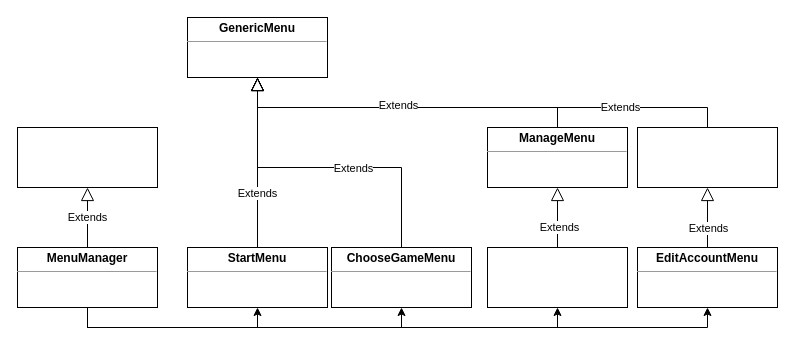
This 795x353 diagram has some shape labels left out. The box of each missing label's shape, as (x1, y1, x2, y2) in pixels:
EditMenu: (636, 126, 778, 188)
ManageAccountMenu: (486, 246, 628, 308)
Manager: (16, 126, 158, 188)
